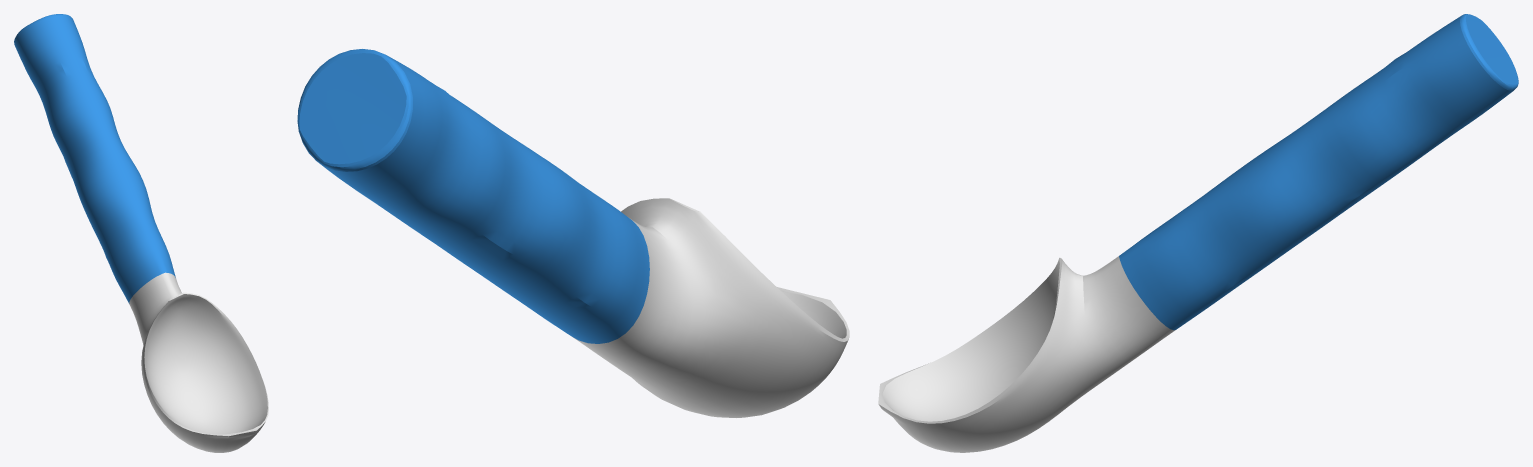
File: Scoop_Runcycle_Position_02.fbx
3 renders of one model, left to right at view 1: azimuth 30°, elevation 25°; view 2: azimuth 150°, elevation 25°; view 3: azimuth 270°, elevation 25°, orthographic. The views are drawn at different scales.
Parts seen in each view (by area): view 1: scoop; view 2: scoop; view 3: scoop.
Part boxes in pixels (box(x1,y1,x2,y2)): scoop: box(14, 14, 268, 452); scoop: box(297, 49, 849, 417); scoop: box(878, 14, 1518, 452).
Bounding box in the file's own units: 35.83 × 96.69 × 129.
